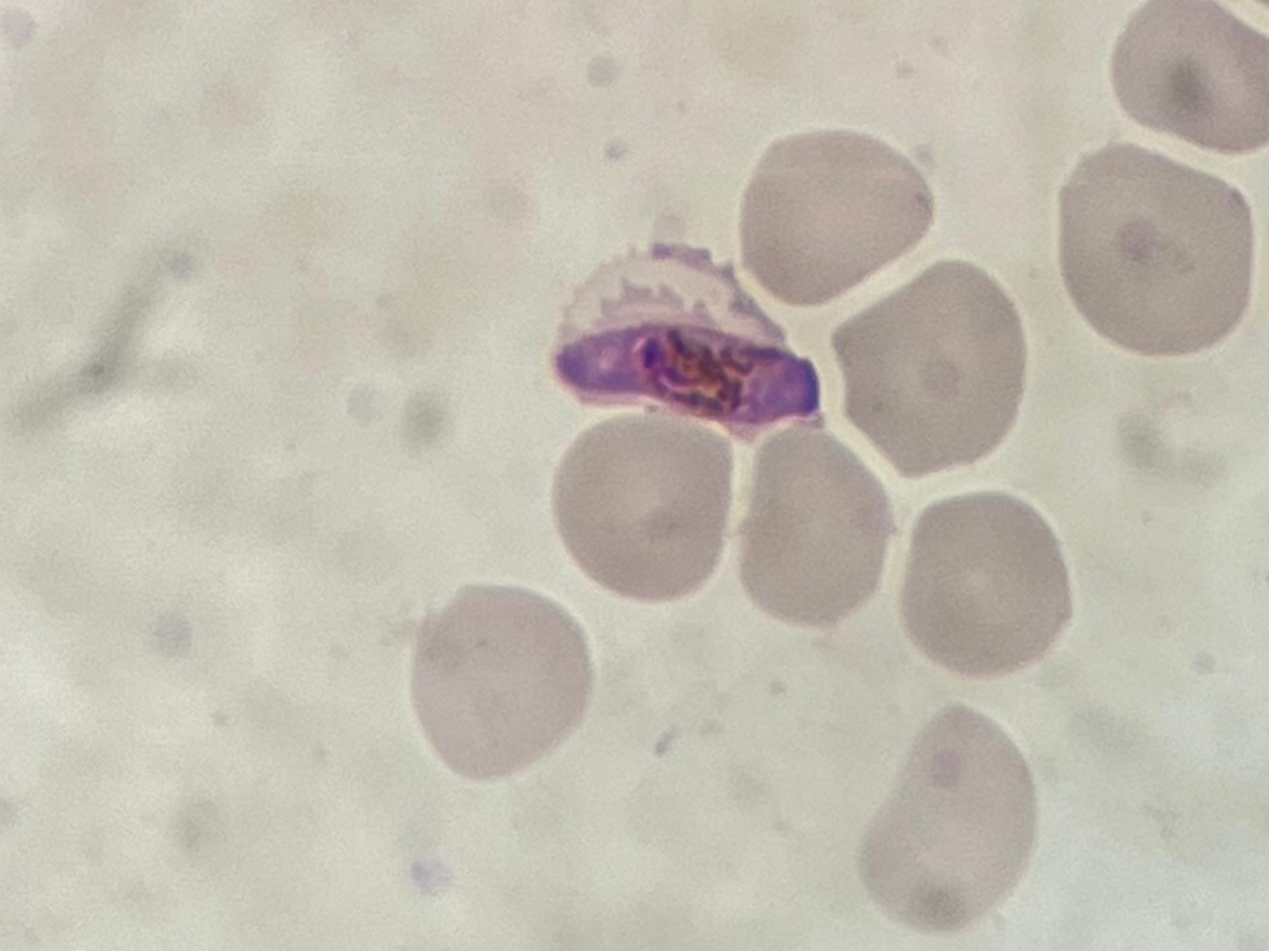Infected: (549, 243, 825, 435)
Uninfected: (854, 704, 1039, 932), (1059, 139, 1253, 354), (834, 261, 1026, 476), (410, 584, 596, 783), (740, 129, 935, 304), (552, 410, 726, 600), (735, 428, 895, 627), (904, 493, 1076, 677), (1110, 0, 1269, 158)
